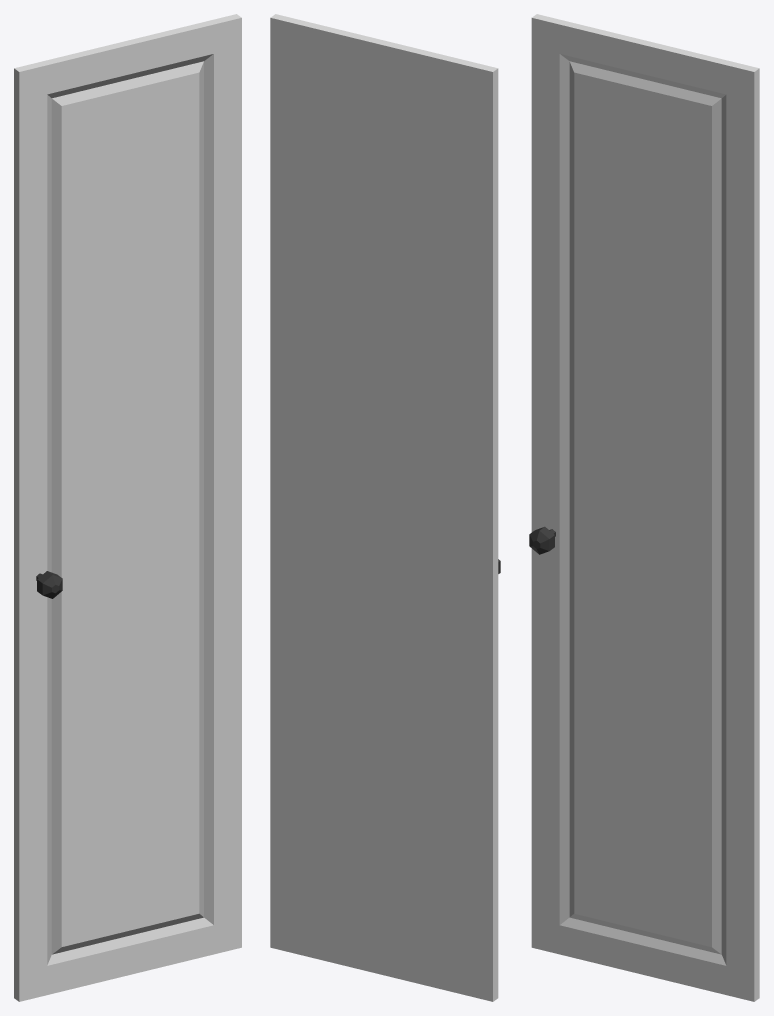
Rendered from Wardrobe7_C1_06.fbx.
3 renders of one model, left to right at view 1: azimuth 30°, elevation 25°; view 2: azimuth 150°, elevation 25°; view 3: azimuth 330°, elevation 25°, orthographic.
Visible parts, largest first — view 1: Wardrobe7_C1_06; view 2: Wardrobe7_C1_06; view 3: Wardrobe7_C1_06.
Part boxes in pixels (x1,y1,x2,y2): Wardrobe7_C1_06: (14, 14, 241, 1001); Wardrobe7_C1_06: (270, 14, 500, 1001); Wardrobe7_C1_06: (529, 14, 759, 1001).
Bounding box in the file's own units: 50 × 200 × 8.1.
